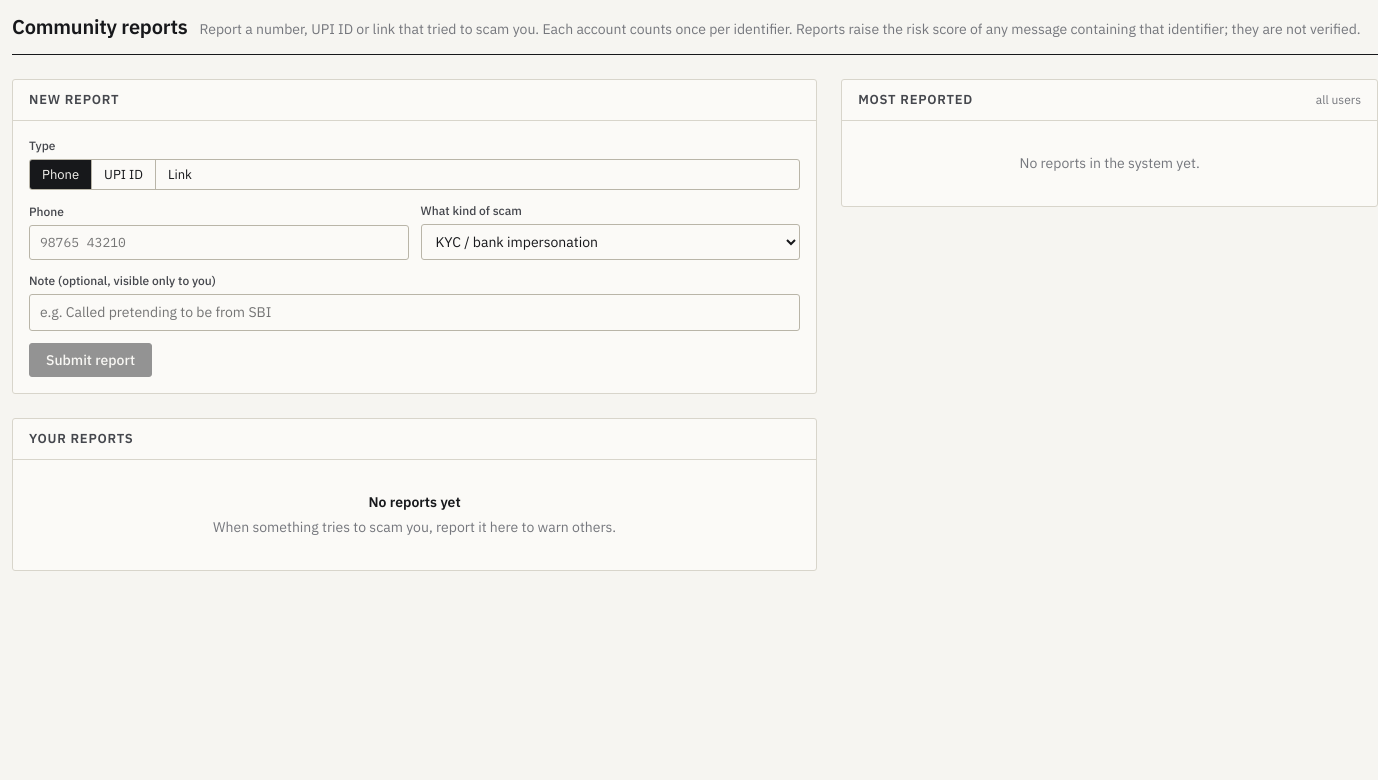
Test: Reports form › keeps submit disabled until a value is entered and shows empty states
Expected: the button with test id "report-submit" is disabled, [29,343,152,377]
Expected: the text "No reports yet" is shown, [368,492,461,510]
Type "98" into the field with test id "report-value".
click(219, 242); type("98")  # box [29,224,409,260]
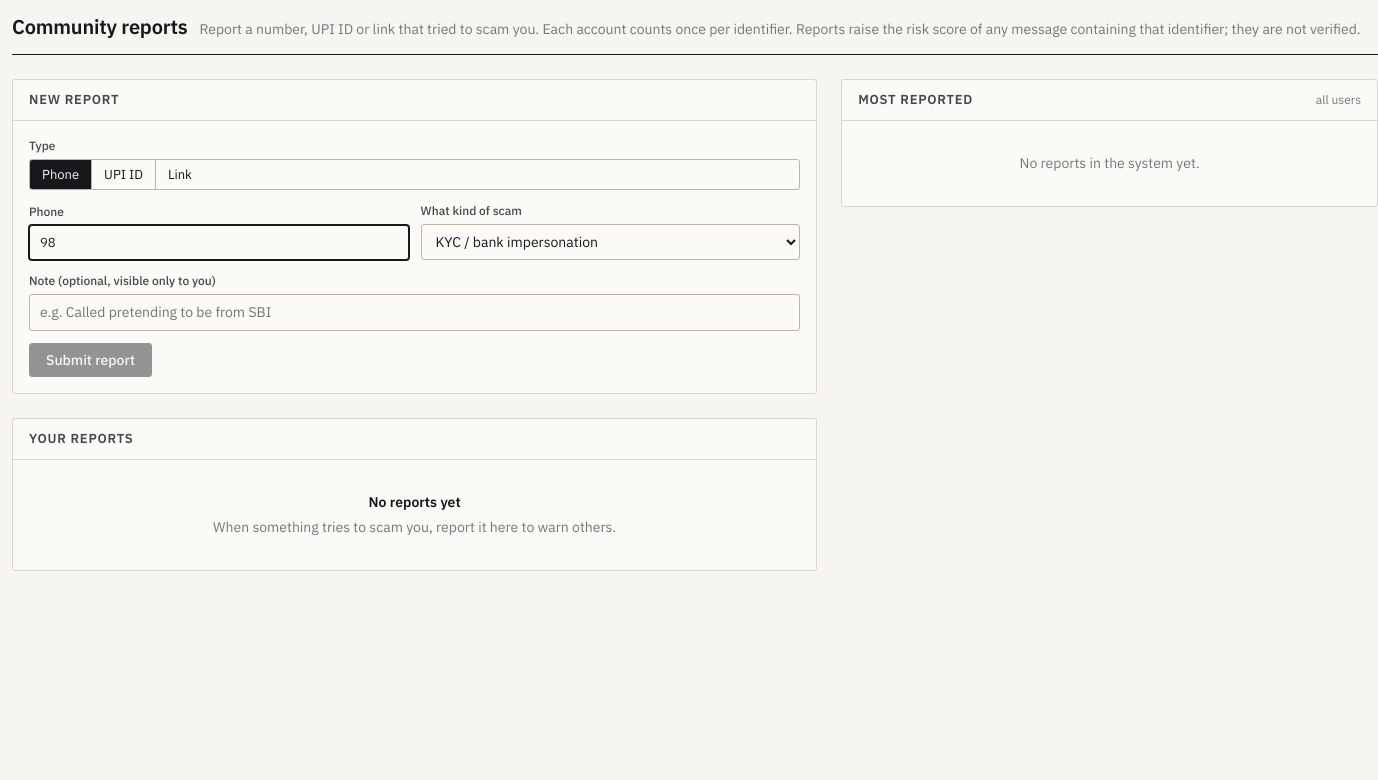
Expected: the button with test id "report-submit" is disabled, [29,343,152,377]
Type "76543210" into the field with test id "report-value".
click(219, 242); type("76543210")  # box [29,224,409,260]
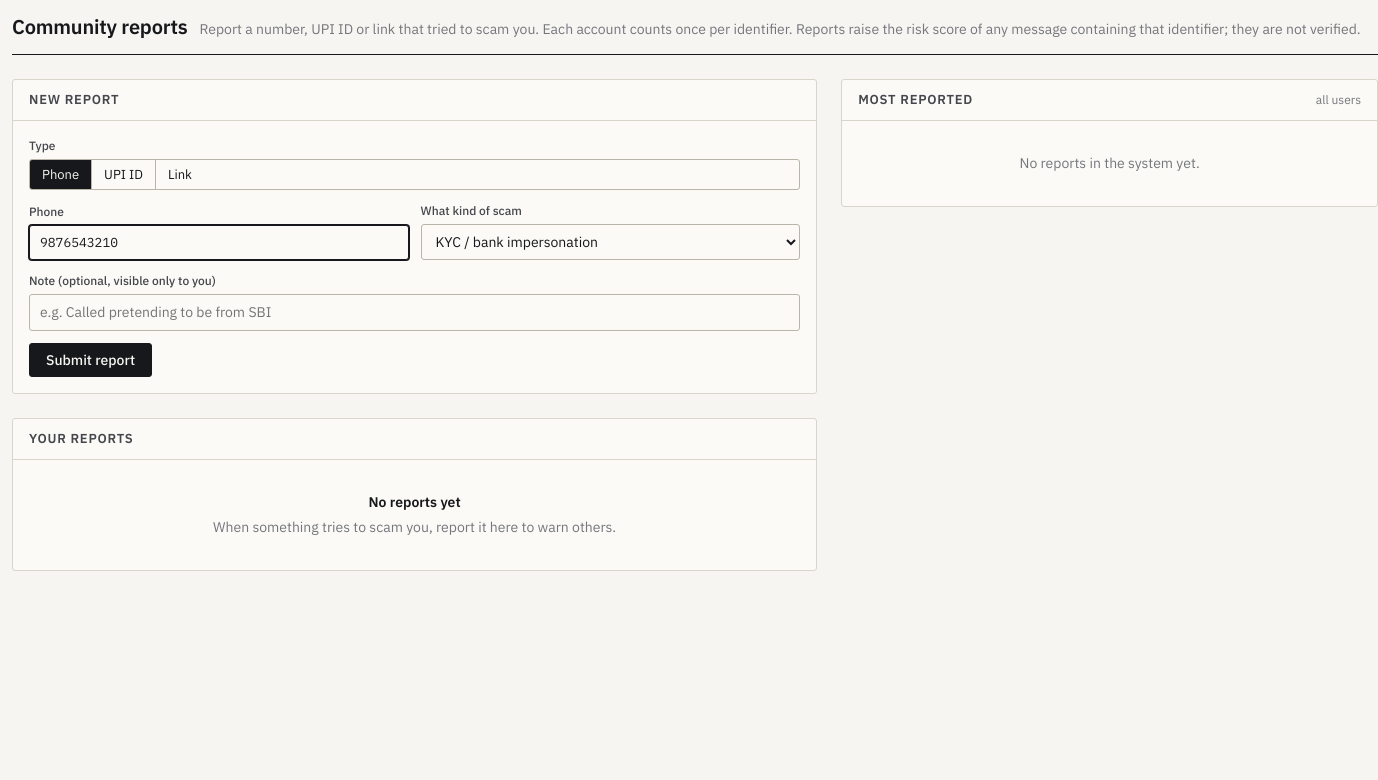
Expected: the button with test id "report-submit" is enabled, [29,343,152,377]
